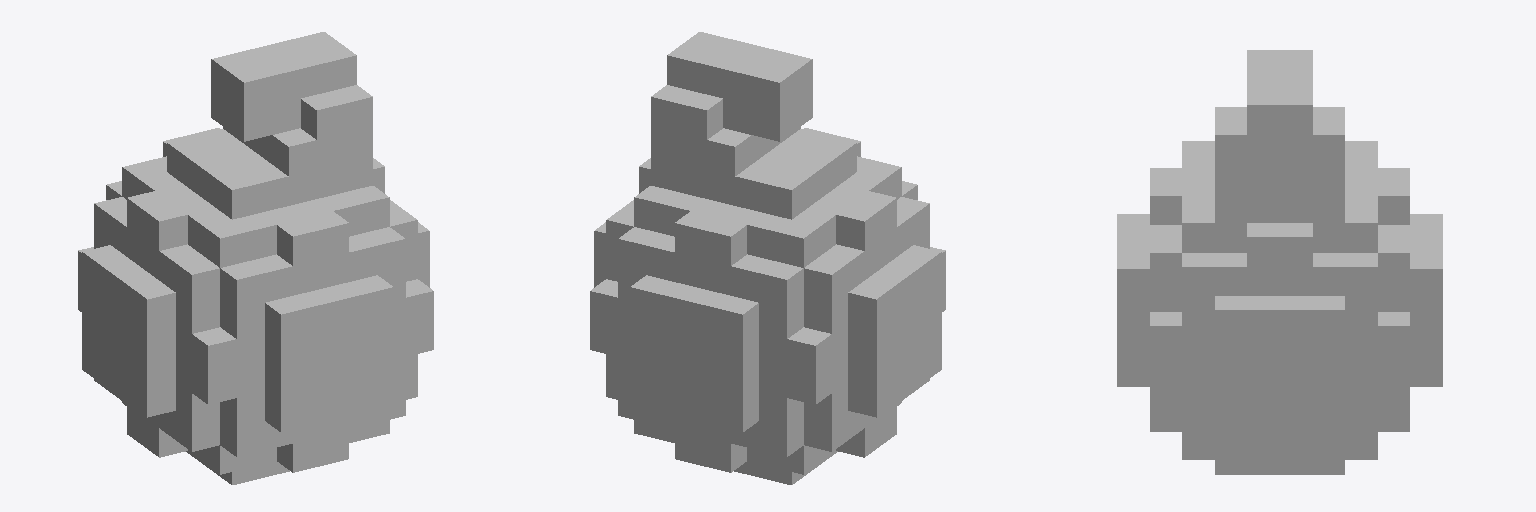
Rendered from Para_Grenade.obj.
3 renders of one model, left to right at view 1: azimuth 30°, elevation 25°; view 2: azimuth 150°, elevation 25°; view 3: azimuth 270°, elevation 25°, orthographic.
Parts seen in each view (by area): view 1: Para_Grenade; view 2: Para_Grenade; view 3: Para_Grenade.
Part boxes in pixels (x1,y1,x2,y2): Para_Grenade: (78,32,433,484); Para_Grenade: (590,32,945,484); Para_Grenade: (1117,50,1442,474).
Size of the model in its own units: 10 by 13 by 10.